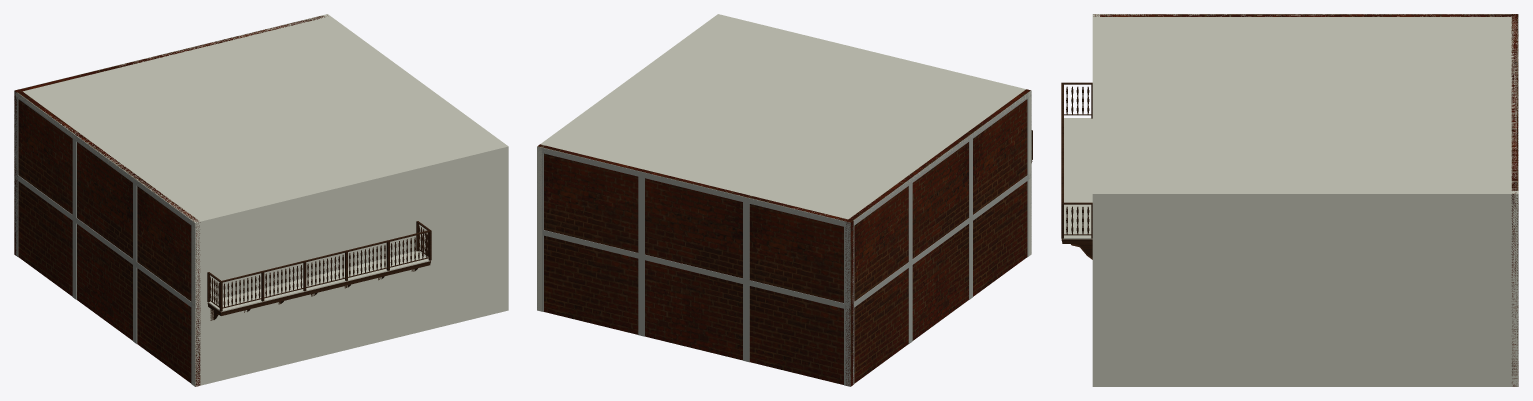
Rendered from building.glb.
The picture shows the model from 3 angles, left to right: view 1: azimuth 30°, elevation 25°; view 2: azimuth 150°, elevation 25°; view 3: azimuth 270°, elevation 25°; orthographic projection. The views are drawn at different scales.
Visible parts, largest first — view 1: roof/house:0/roof_slab#0001, house:0/edge0/z0/house:0/edge0/z0/wall_0_0, house:0/edge3/z0/house:0/edge3/z0/wall_0_0, balcony/sample/balcony_platform#0001, house:0/edge2/z0/house:0/edge2/z0/wall_0_0, house:0/edge3/z0/house:0/edge3/z0/beam_0_0, house:0/edge3/z0/house:0/edge3/z0/beam_1_0, house:0/edge1/z0/house:0/edge1/z0/wall_0_0, balcony/sample/balcony_fascia#0001, balcony/sample/balcony_handrail#0001; view 2: roof/house:0/roof_slab#0001, house:0/edge2/z0/house:0/edge2/z0/wall_0_0, house:0/edge3/z0/house:0/edge3/z0/wall_0_0, house:0/edge1/z0/house:0/edge1/z0/wall_0_0, house:0/edge2/z0/house:0/edge2/z0/beam_1_0, house:0/edge2/z0/house:0/edge2/z0/beam_0_0, house:0/edge0/z0/house:0/edge0/z0/wall_0_0, house:0/edge3/z0/house:0/edge3/z0/beam_0_0, house:0/edge3/z0/house:0/edge3/z0/beam_1_0, house:0/edge2/z0/house:0/edge2/z0/column_2_0, house:0/edge2/z0/house:0/edge2/z0/column_2_1, house:0/edge2/z0/house:0/edge2/z0/column_3_0 (+3 smaller); view 3: house:0/edge1/z0/house:0/edge1/z0/wall_0_0, roof/house:0/roof_slab#0001, balcony/sample/balcony_platform#0001, house:0/edge0/z0/house:0/edge0/z0/wall_0_0, house:0/edge2/z0/house:0/edge2/z0/wall_0_0, house:0/edge3/z0/house:0/edge3/z0/wall_0_0, balcony/sample/balcony_handrail#0001.
Part boxes in pixels (left/top/right/bottom): roof/house:0/roof_slab#0001: left=15, top=14, right=506, bottom=225; house:0/edge0/z0/house:0/edge0/z0/wall_0_0: left=192, top=144, right=508, bottom=386; house:0/edge3/z0/house:0/edge3/z0/wall_0_0: left=17, top=89, right=200, bottom=386; balcony/sample/balcony_platform#0001: left=208, top=251, right=429, bottom=312; house:0/edge2/z0/house:0/edge2/z0/wall_0_0: left=14, top=15, right=327, bottom=255; house:0/edge3/z0/house:0/edge3/z0/beam_0_0: left=14, top=173, right=195, bottom=309; house:0/edge3/z0/house:0/edge3/z0/beam_1_0: left=14, top=92, right=195, bottom=227; house:0/edge1/z0/house:0/edge1/z0/wall_0_0: left=323, top=14, right=508, bottom=311; balcony/sample/balcony_fascia#0001: left=207, top=261, right=430, bottom=315; balcony/sample/balcony_handrail#0001: left=207, top=221, right=431, bottom=282; roof/house:0/roof_slab#0001: left=540, top=14, right=1031, bottom=223; house:0/edge2/z0/house:0/edge2/z0/wall_0_0: left=538, top=144, right=853, bottom=386; house:0/edge3/z0/house:0/edge3/z0/wall_0_0: left=845, top=89, right=1030, bottom=385; house:0/edge1/z0/house:0/edge1/z0/wall_0_0: left=537, top=15, right=722, bottom=311; house:0/edge2/z0/house:0/edge2/z0/beam_1_0: left=538, top=147, right=850, bottom=228; house:0/edge2/z0/house:0/edge2/z0/beam_0_0: left=542, top=230, right=850, bottom=309; house:0/edge0/z0/house:0/edge0/z0/wall_0_0: left=717, top=14, right=1031, bottom=256; house:0/edge3/z0/house:0/edge3/z0/beam_0_0: left=850, top=172, right=1031, bottom=309; house:0/edge3/z0/house:0/edge3/z0/beam_1_0: left=850, top=90, right=1031, bottom=227; house:0/edge2/z0/house:0/edge2/z0/column_2_0: left=638, top=176, right=644, bottom=254; house:0/edge2/z0/house:0/edge2/z0/column_2_1: left=638, top=258, right=644, bottom=336; house:0/edge2/z0/house:0/edge2/z0/column_3_0: left=743, top=202, right=749, bottom=280; house:0/edge1/z0/house:0/edge1/z0/wall_0_0: left=1092, top=191, right=1518, bottom=386; roof/house:0/roof_slab#0001: left=1092, top=14, right=1518, bottom=198; balcony/sample/balcony_platform#0001: left=1063, top=118, right=1092, bottom=239; house:0/edge0/z0/house:0/edge0/z0/wall_0_0: left=1092, top=14, right=1099, bottom=386; house:0/edge2/z0/house:0/edge2/z0/wall_0_0: left=1511, top=14, right=1518, bottom=386; house:0/edge3/z0/house:0/edge3/z0/wall_0_0: left=1093, top=14, right=1517, bottom=16; balcony/sample/balcony_handrail#0001: left=1061, top=82, right=1092, bottom=204.
Size of the model in its own units: 12 by 6 by 12.89.
4 materials, 2 textured.
